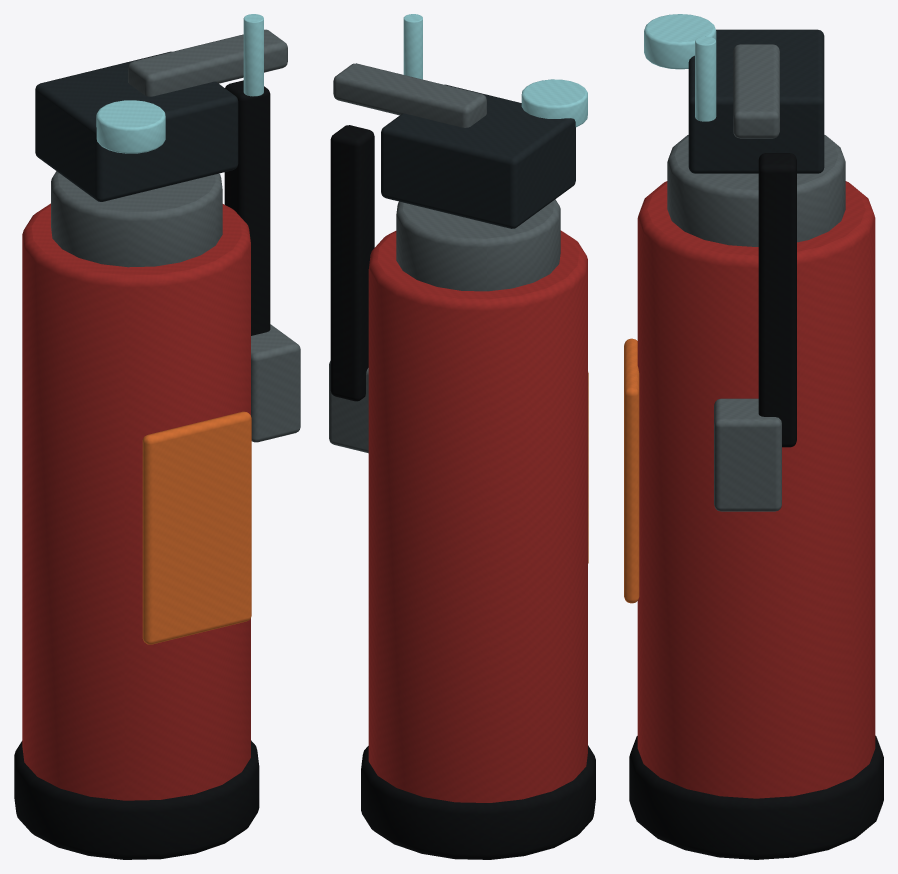
The model's file is FireExtinguisher.glb.
3 renders of one model, left to right at view 1: azimuth 30°, elevation 25°; view 2: azimuth 150°, elevation 25°; view 3: azimuth 270°, elevation 25°, orthographic. The views are drawn at different scales.
Visible parts, largest first — view 1: FireExtinguisher_Mesh; view 2: FireExtinguisher_Mesh; view 3: FireExtinguisher_Mesh.
Part boxes in pixels (bbox=[...]): FireExtinguisher_Mesh: bbox=[14, 14, 300, 859]; FireExtinguisher_Mesh: bbox=[329, 14, 595, 859]; FireExtinguisher_Mesh: bbox=[624, 14, 883, 859].
Bounding box in the file's own units: 0.355 × 1.06 × 0.306.
Materials: 6 (6 with a texture image).
